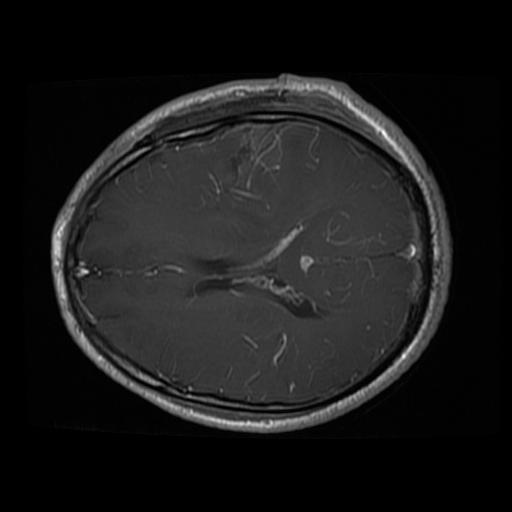glioma: (204, 123, 284, 209)
